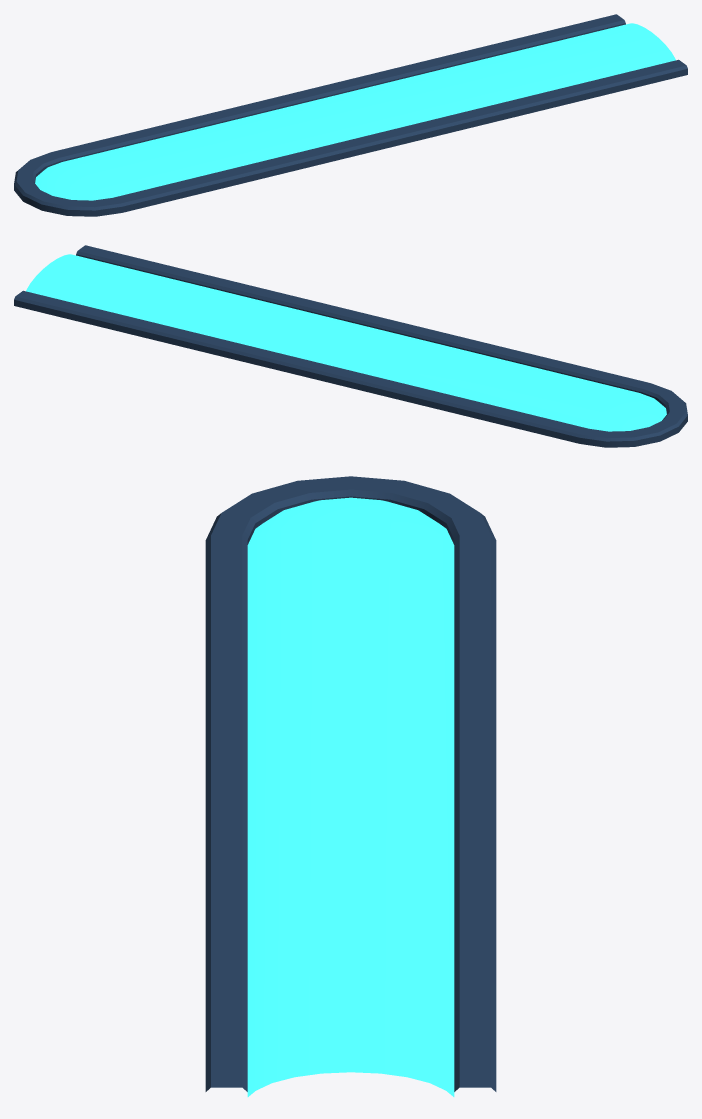
Rendered from Light_Trim_01_RoundEnd.fbx.
The picture shows the model from 3 angles, top to bottom: view 1: azimuth 30°, elevation 25°; view 2: azimuth 150°, elevation 25°; view 3: azimuth 270°, elevation 25°; orthographic projection. The views are drawn at different scales.
Visible parts, largest first — view 1: Light_Trim_01_RoundEnd.001; view 2: Light_Trim_01_RoundEnd.001; view 3: Light_Trim_01_RoundEnd.001.
Part boxes in pixels (x1=…): Light_Trim_01_RoundEnd.001: x1=14, y1=14, x2=687, y2=216; Light_Trim_01_RoundEnd.001: x1=14, y1=245, x2=687, y2=447; Light_Trim_01_RoundEnd.001: x1=205, y1=476, x2=496, y2=1096.
Size of the model in its own units: 0.5 by 0.0123 by 0.1.
